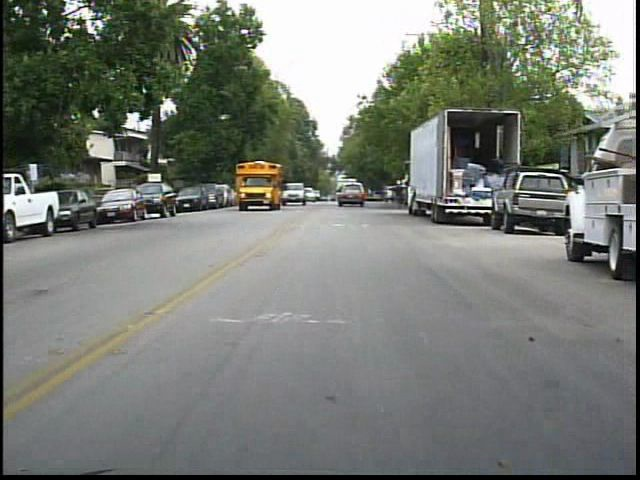person: (392, 177, 410, 215)
